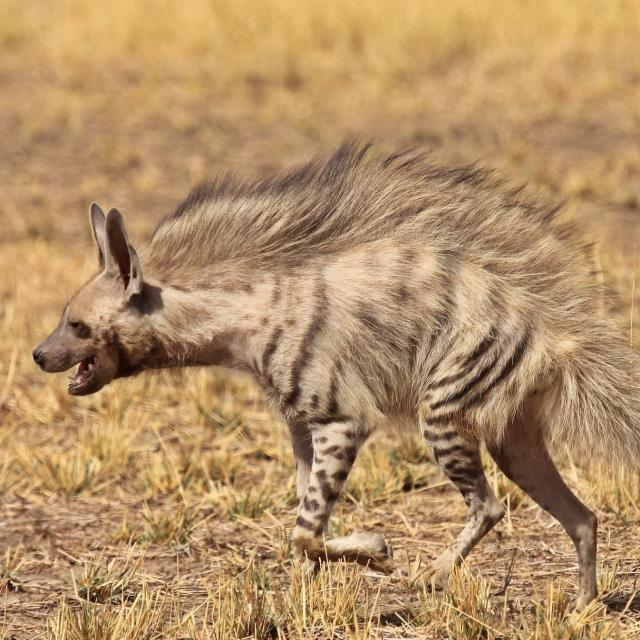Hyena: (25, 153, 612, 604)
